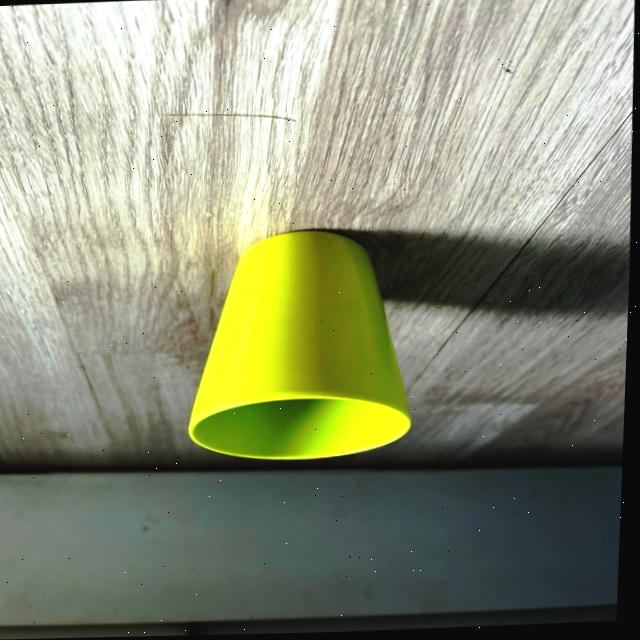WaterGlass: (192, 232, 414, 460)
